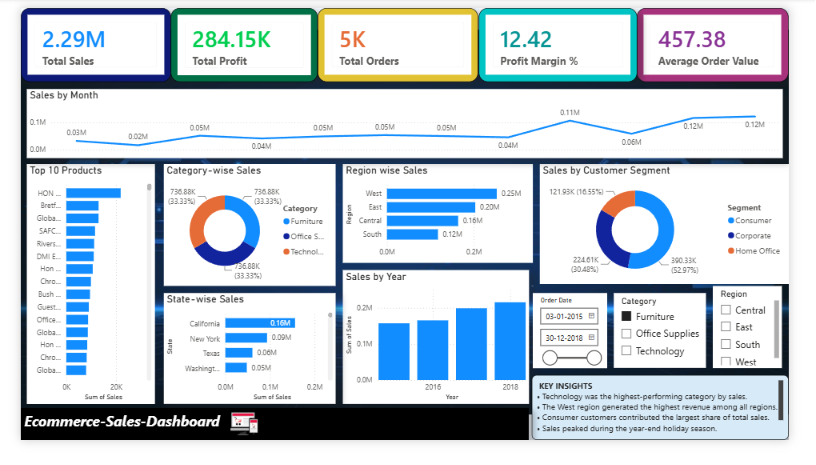

This screenshot's page, from the dashboard's own definition file:
{"tool":"powerbi","page":{"name":"Page 1","canvas":[1280,720],"ordinal":0},"visuals":[{"type":"cardVisual","fields":{"Data":["Orders.Total Sales"]},"box":[0,0,250,122.9],"z":0},{"type":"cardVisual","fields":{"Data":["Orders.Total Profit"]},"box":[250,0,245.7,122.9],"z":1000},{"type":"cardVisual","fields":{"Data":["Orders.Total Orders"]},"box":[495.7,0,267.1,122.9],"z":2000},{"type":"cardVisual","fields":{"Data":["Orders.Average Order Value"]},"box":[1027.1,0,252.9,122.9],"z":3000},{"type":"cardVisual","fields":{"Data":["Orders.Profit Margin %"]},"box":[762.9,0,264.3,122.9],"z":4000},{"type":"lineClusteredColumnComboChart","title":"Sales by Year","fields":{"Y":["Sum(Orders1.Sales)"],"Category":["Orders1.Order Date.Variation.Date Hierarchy.Year","Orders1.Order Date.Variation.Date Hierarchy.Quarter","Orders1.Order Date.Variation.Date Hierarchy.Month","Orders1.Order Date.Variation.Date Hierarchy.Day"]},"box":[628.8,436.2,217.5,282.5],"z":5000},{"type":"clusteredBarChart","title":"Top 10 Products","fields":{"Category":["Orders1.Product Name"],"Y":["Sum(Orders1.Sales)"]},"box":[0,253.8,230,465],"z":6000},{"type":"clusteredBarChart","title":"Region wise Sales","fields":{"Category":["Orders1.Region"],"Y":["Sum(Orders1.Sales)"]},"box":[482.5,266.2,467.5,170],"z":7000},{"type":"donutChart","title":"Sales by Customer Segment","fields":{"Category":["Orders1.Segment"],"Y":["Sum(Orders1.Sales)"]},"box":[950,260,330,200],"z":8000},{"type":"clusteredBarChart","title":"State-wise Sales","fields":{"Category":["Orders1.State"],"Y":["Sum(Orders1.Sales)"]},"box":[180,460,438.3,258.3],"z":9000},{"type":"slicer","fields":{"Values":["Orders1.Order Date"]},"box":[852.5,476.2,136.2,123.8],"z":10000},{"type":"slicer","fields":{"Values":["Orders1.Region"]},"box":[1152.9,452.9,115.7,147.1],"z":11000},{"type":"slicer","title":"Category wise Sales","fields":{"Values":["Orders1.Category"]},"box":[988.6,475.7,164.3,124.3],"z":12000},{"type":"lineChart","title":"Sales by Month","fields":{"Category":["Orders1.Order Date.Variation.Date Hierarchy.Month"],"Y":["Sum(Orders1.Sales)"]},"box":[0,122.9,1278.6,131.4],"z":13000},{"type":"donutChart","title":"Category-wise Sales","fields":{"Category":["Orders.Category"],"Y":["Sum(Orders1.Sales)"]},"box":[180,256.2,302.5,200],"z":14000},{"type":"textbox","box":[852,600,428,120],"z":15000}]}

Visuals, with their boxes in screenshot pixels (x1, y1, x2, y2), scaled from the page's 1280x720 canvas onto the 816x465 screenshot:
cardVisual - Orders.Total Sales: <box>0,0,159,79</box>
cardVisual - Orders.Total Profit: <box>159,0,316,79</box>
cardVisual - Orders.Total Orders: <box>316,0,486,79</box>
cardVisual - Orders.Average Order Value: <box>655,0,815,79</box>
cardVisual - Orders.Profit Margin %: <box>486,0,655,79</box>
"Sales by Year" lineClusteredColumnComboChart: <box>401,282,540,464</box>
"Top 10 Products" clusteredBarChart: <box>0,164,147,464</box>
"Region wise Sales" clusteredBarChart: <box>308,172,606,282</box>
"Sales by Customer Segment" donutChart: <box>606,168,815,297</box>
"State-wise Sales" clusteredBarChart: <box>115,297,394,464</box>
slicer - Orders1.Order Date: <box>543,308,630,388</box>
slicer - Orders1.Region: <box>735,292,809,388</box>
"Category wise Sales" slicer: <box>630,307,735,388</box>
"Sales by Month" lineChart: <box>0,79,815,164</box>
"Category-wise Sales" donutChart: <box>115,165,308,295</box>
textbox: <box>543,388,815,464</box>
